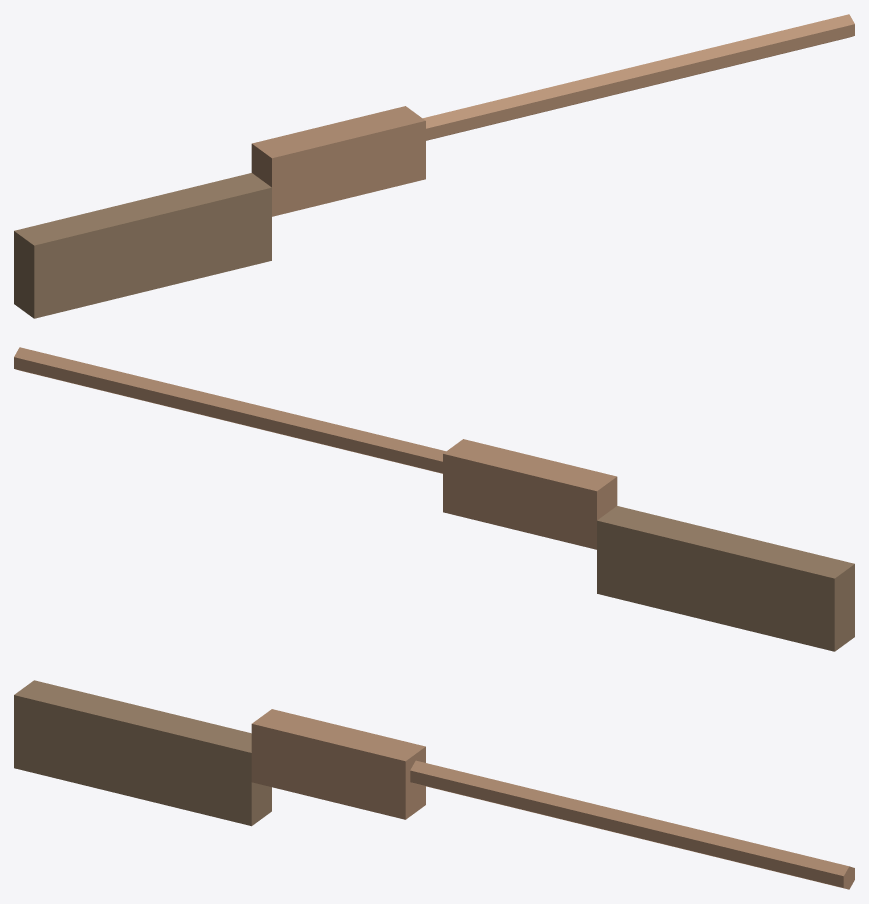
File: held_weapon_pipeshotgun.glb
The picture shows the model from 3 angles, top to bottom: view 1: azimuth 30°, elevation 25°; view 2: azimuth 150°, elevation 25°; view 3: azimuth 330°, elevation 25°; orthographic projection.
Visible parts, largest first — view 1: held_weapon_pipeshotgun; view 2: held_weapon_pipeshotgun; view 3: held_weapon_pipeshotgun.
Part boxes in pixels (bbox=[...]): held_weapon_pipeshotgun: bbox=[14, 14, 854, 318]; held_weapon_pipeshotgun: bbox=[14, 347, 854, 651]; held_weapon_pipeshotgun: bbox=[14, 680, 854, 889].
Size of the model in its own units: 1.18 by 0.14 by 0.05.
